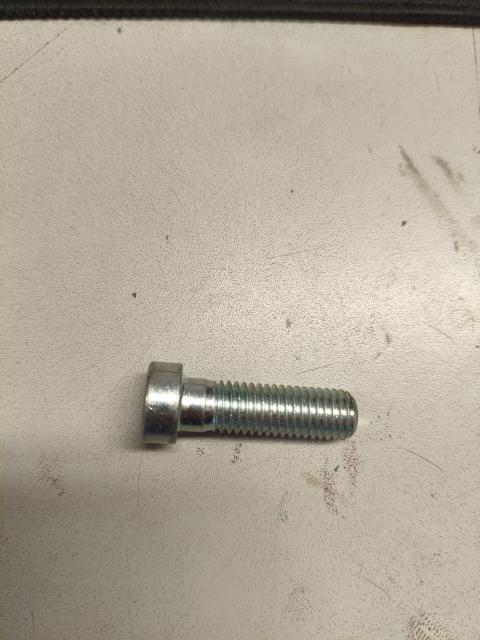Metal: (133, 352, 365, 450)
